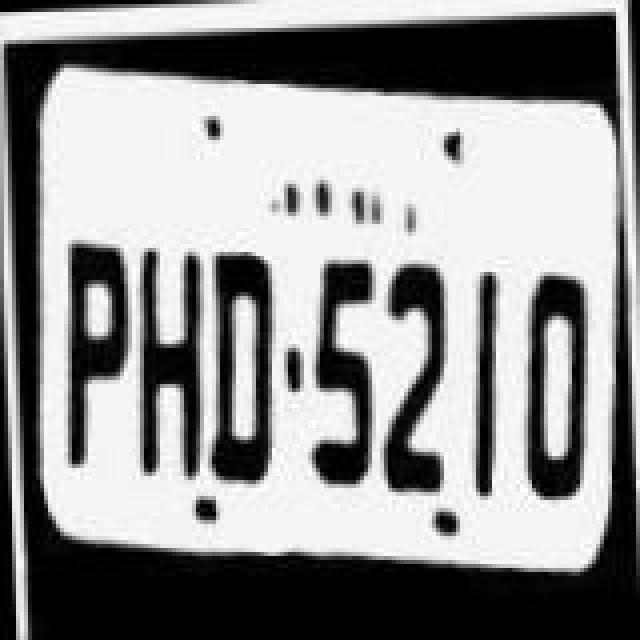1: (450, 254, 510, 506)
2: (370, 238, 454, 498)
5: (296, 232, 384, 496)
D: (198, 224, 282, 488)
H: (126, 222, 214, 474)
O: (512, 248, 600, 508)
P: (46, 206, 134, 486)
